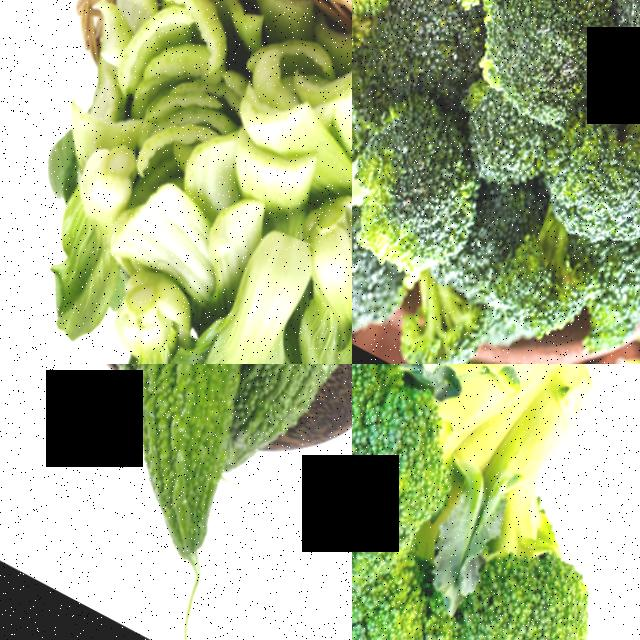bitter gourd: (17, 364, 298, 564), (206, 364, 352, 459)
bok choy: (0, 127, 163, 325), (133, 229, 346, 364), (259, 203, 352, 364), (64, 264, 213, 364)
broccoli: (352, 364, 640, 640), (352, 90, 501, 291), (528, 31, 640, 265), (450, 0, 619, 132), (473, 208, 600, 343), (358, 282, 484, 364), (384, 0, 548, 42), (352, 193, 394, 344), (352, 0, 433, 60)
